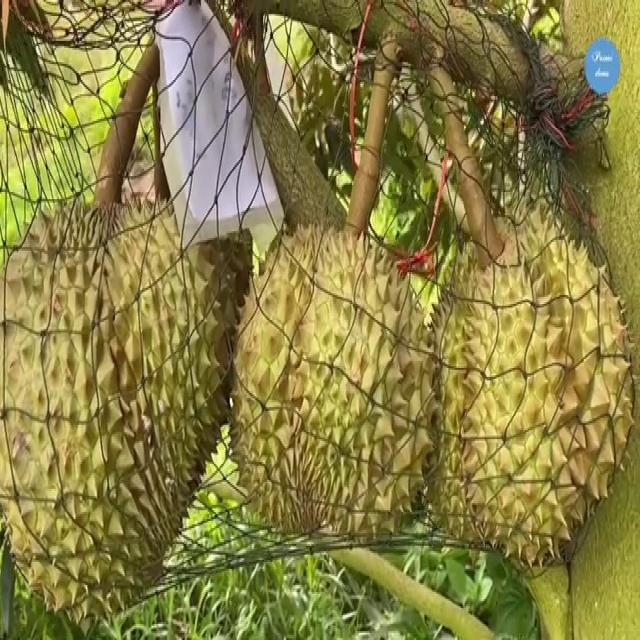durian: (2, 194, 246, 615), (403, 202, 638, 576), (225, 213, 443, 552)
